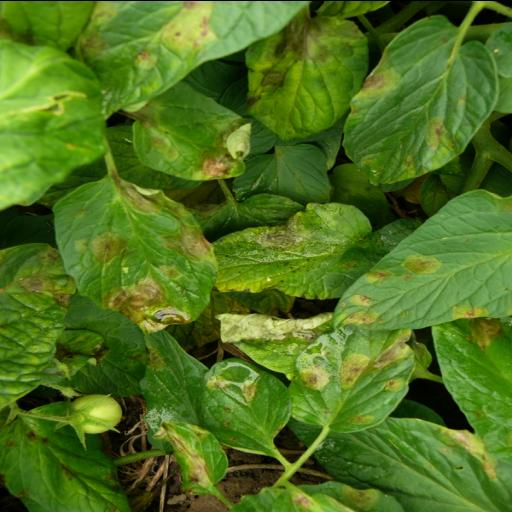Early Blight: (334, 13, 490, 187), (74, 0, 307, 114), (334, 190, 512, 332), (55, 182, 209, 330), (208, 203, 400, 296), (252, 0, 370, 140), (0, 401, 131, 512), (288, 324, 414, 428), (110, 90, 256, 178), (0, 242, 78, 406), (194, 356, 290, 456), (160, 422, 228, 488)
